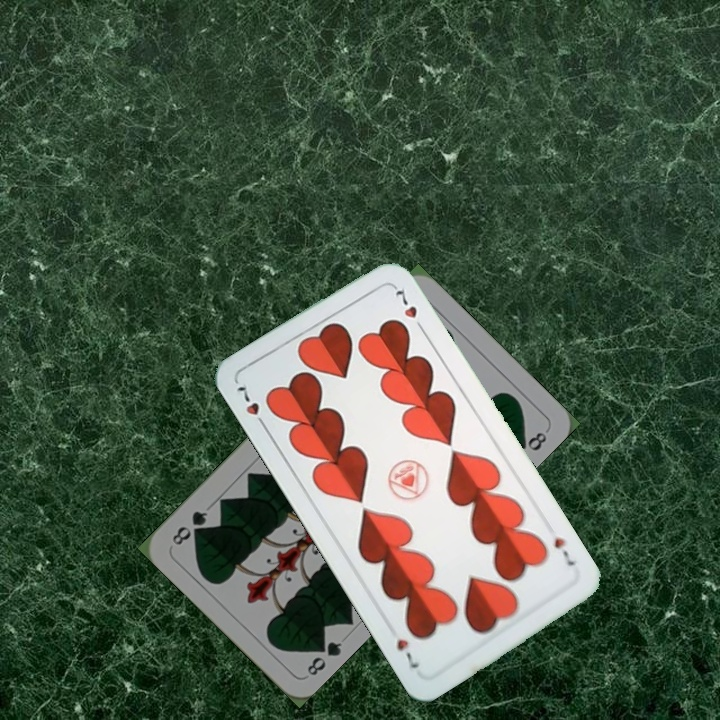G8: (303, 634, 345, 679)
H7: (232, 380, 270, 433), (549, 533, 578, 569)
